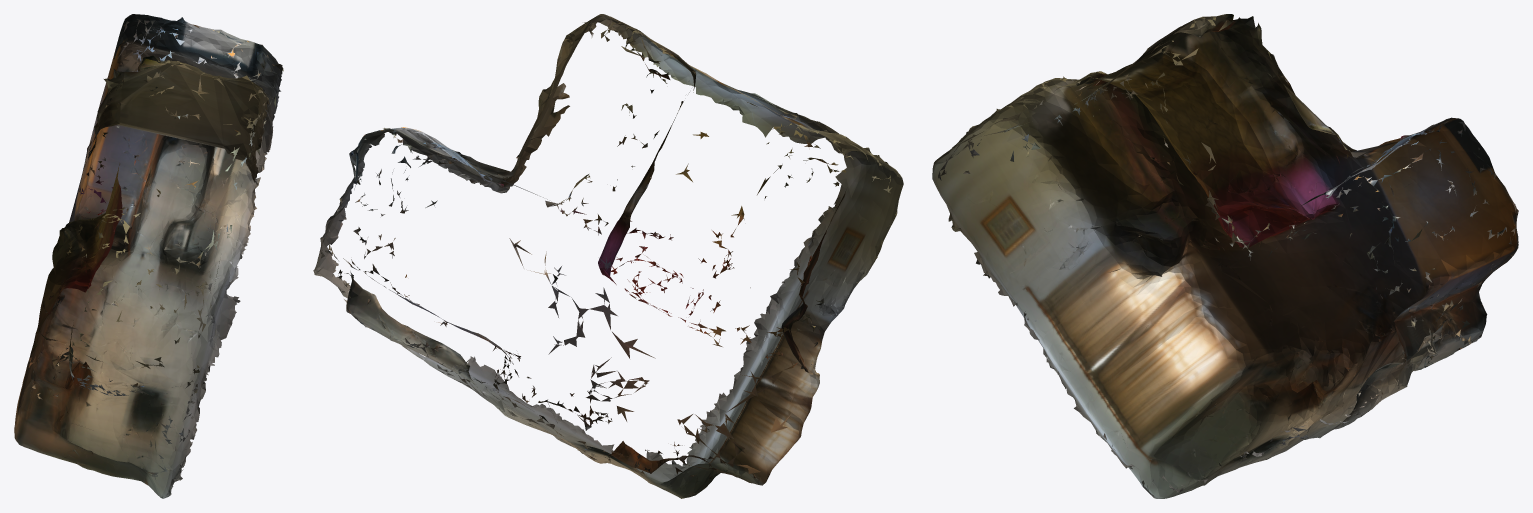
File: room246.glb
3 renders of one model, left to right at view 1: azimuth 30°, elevation 25°; view 2: azimuth 150°, elevation 25°; view 3: azimuth 270°, elevation 25°, orthographic. The views are drawn at different scales.
Size of the model in its own units: 48 by 54.13 by 58.2.
1 material, 1 textured.
